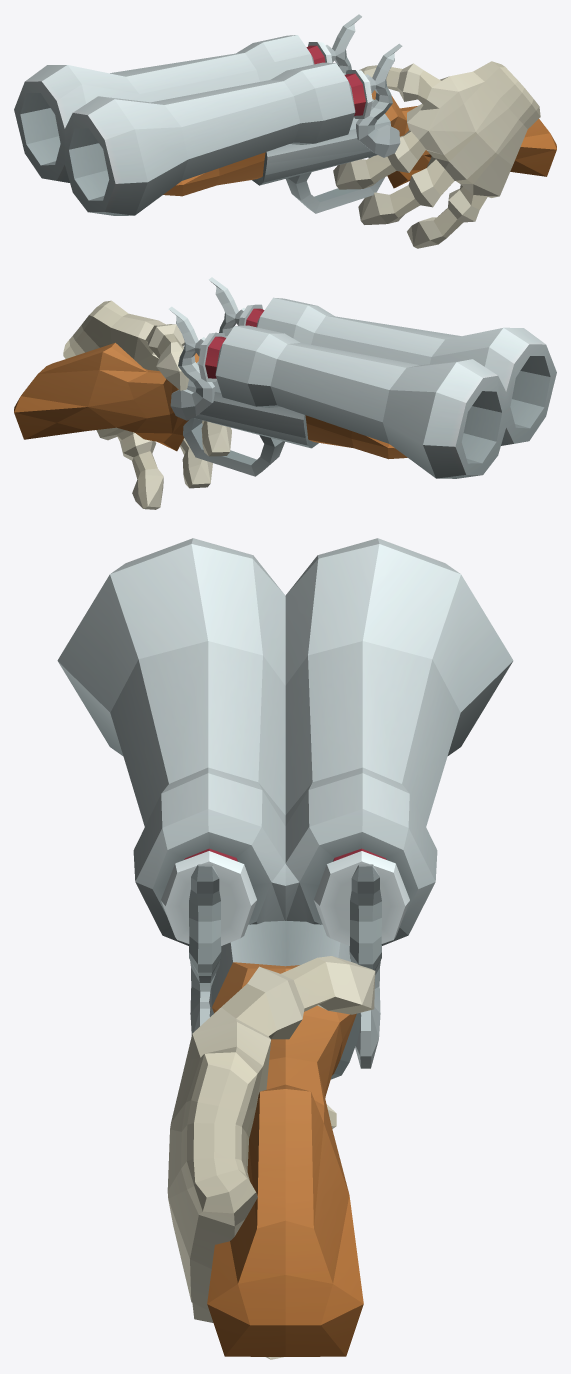
The model's file is SM_Shotgun.fbx.
3 renders of one model, top to bottom at view 1: azimuth 30°, elevation 25°; view 2: azimuth 150°, elevation 25°; view 3: azimuth 270°, elevation 25°, orthographic. The views are drawn at different scales.
Parts seen in each view (by area): view 1: SM_Shotgun.001; view 2: SM_Shotgun.001; view 3: SM_Shotgun.001.
Boxes of the visible parts, x1,y1,x2,y2 form: SM_Shotgun.001: (14,14,556,248); SM_Shotgun.001: (14,277,556,509); SM_Shotgun.001: (57,538,513,1359).
Size of the model in its own units: 97.15 by 39.71 by 47.11.
